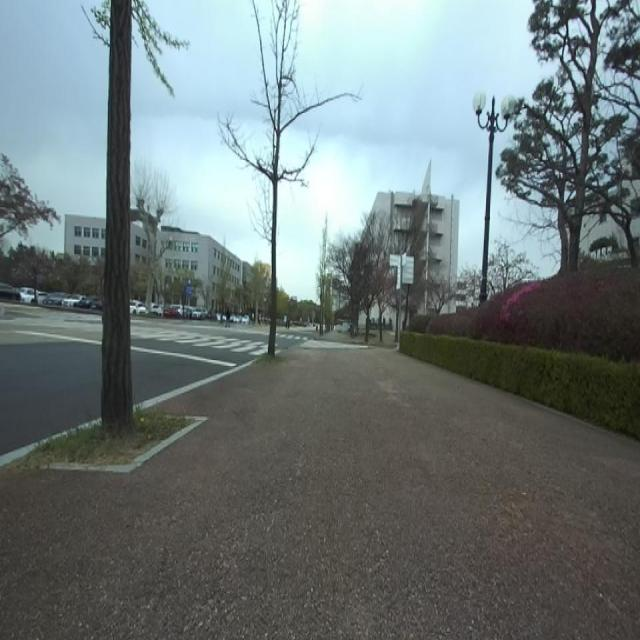sidewalk: (0, 348, 640, 639), (134, 359, 256, 409), (0, 419, 100, 467)
